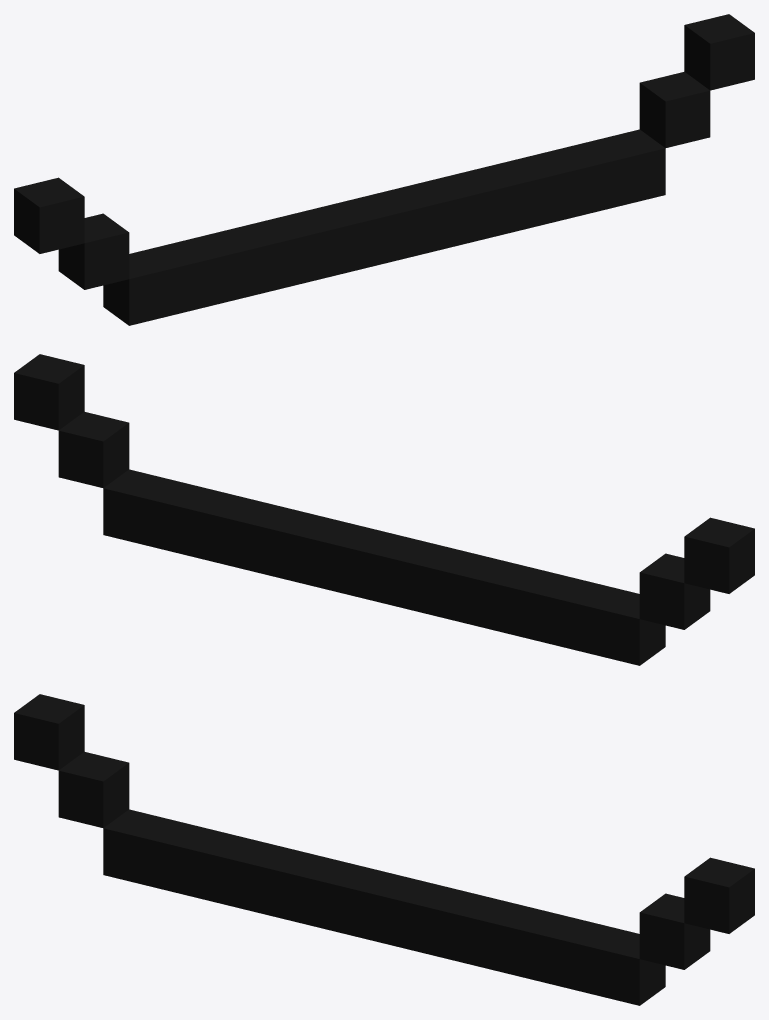
File: mark-1.obj
3 renders of one model, top to bottom at view 1: azimuth 30°, elevation 25°; view 2: azimuth 150°, elevation 25°; view 3: azimuth 330°, elevation 25°, orthographic.
Size of the model in its own units: 1.6 by 0.3 by 0.1.
Materials: 1 (1 with a texture image).
